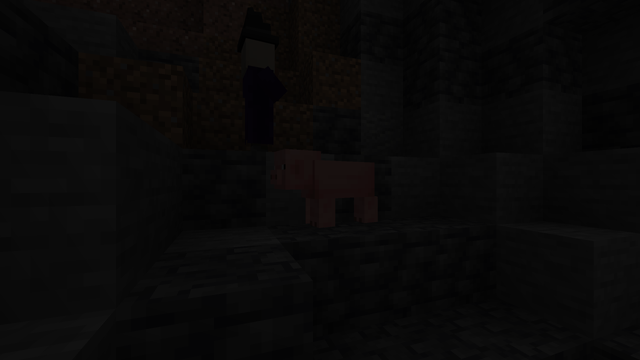cochons: (305, 157, 377, 228)
sorcieres: (238, 30, 277, 132)
